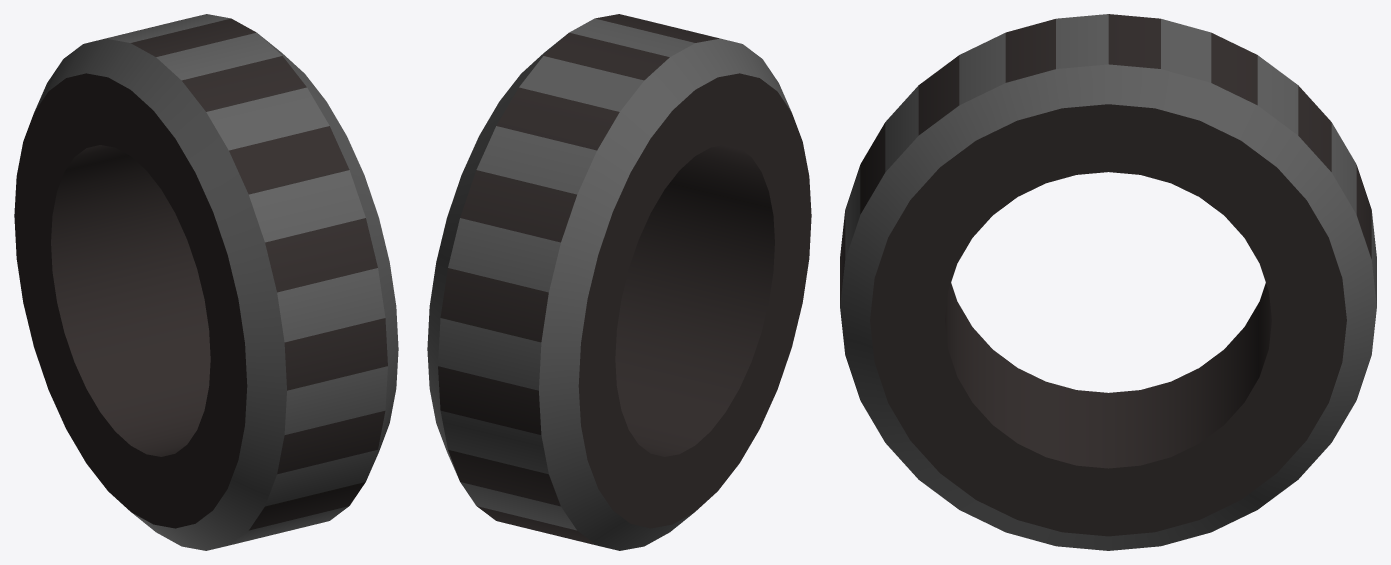
The model's file is Tyre.obj.
The picture shows the model from 3 angles, left to right: view 1: azimuth 30°, elevation 25°; view 2: azimuth 150°, elevation 25°; view 3: azimuth 270°, elevation 25°; orthographic projection. The views are drawn at different scales.
Visible parts, largest first — view 1: Tyre; view 2: Tyre; view 3: Tyre.
Boxes of the visible parts, x1=… form: Tyre: x1=14, y1=14, x2=398, y2=550; Tyre: x1=427, y1=14, x2=811, y2=550; Tyre: x1=840, y1=14, x2=1376, y2=550.
Size of the model in its own units: 0.12 by 0.36 by 0.36.
